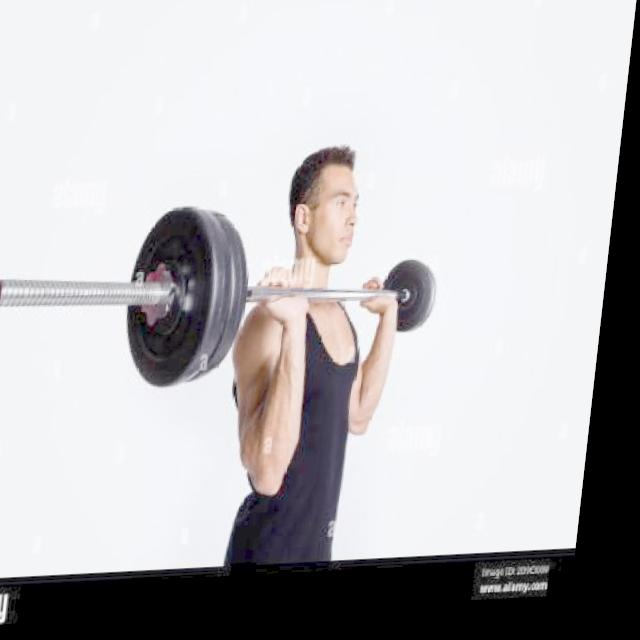barbell: (1, 195, 234, 403)
